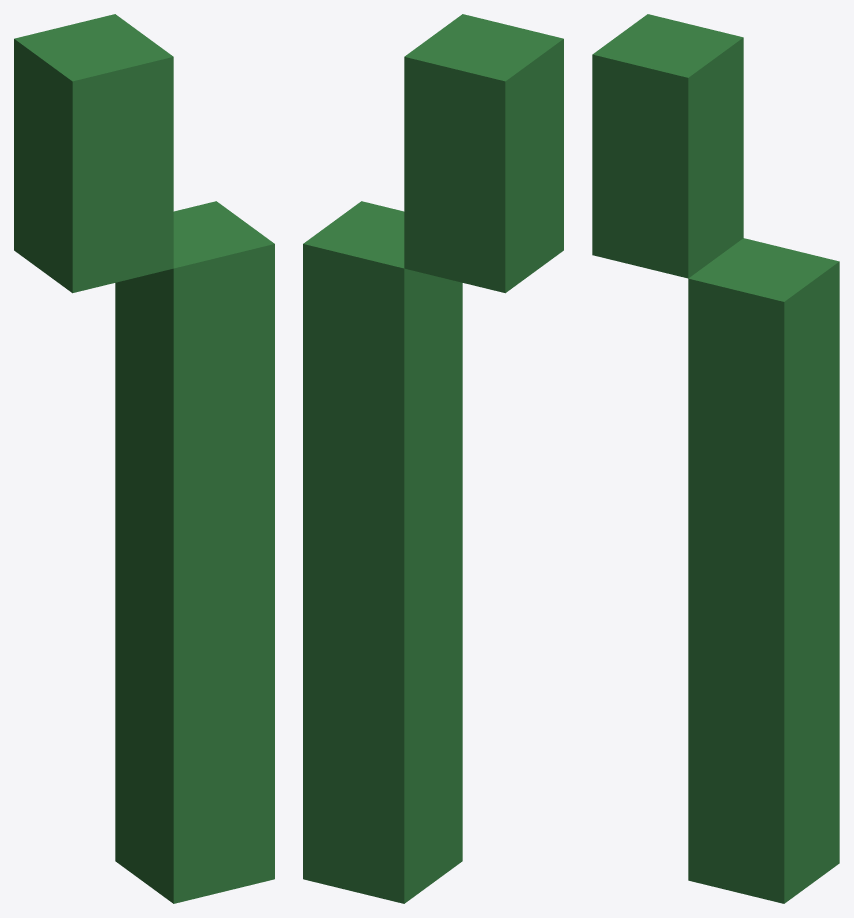
The model's file is grass_tall2.obj.
3 views of the same model, side by side, from view 1: azimuth 30°, elevation 25°; view 2: azimuth 150°, elevation 25°; view 3: azimuth 330°, elevation 25° (orthographic). The views are drawn at different scales.
Size of the model in its own units: 2 by 8 by 1.
Materials: 1 (1 with a texture image).
